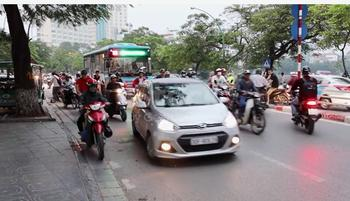bus: (81, 40, 155, 103)
car: (122, 71, 252, 167)
motorcycle: (73, 90, 119, 162), (225, 83, 274, 143), (285, 81, 327, 137), (103, 80, 133, 125), (57, 81, 78, 109)
